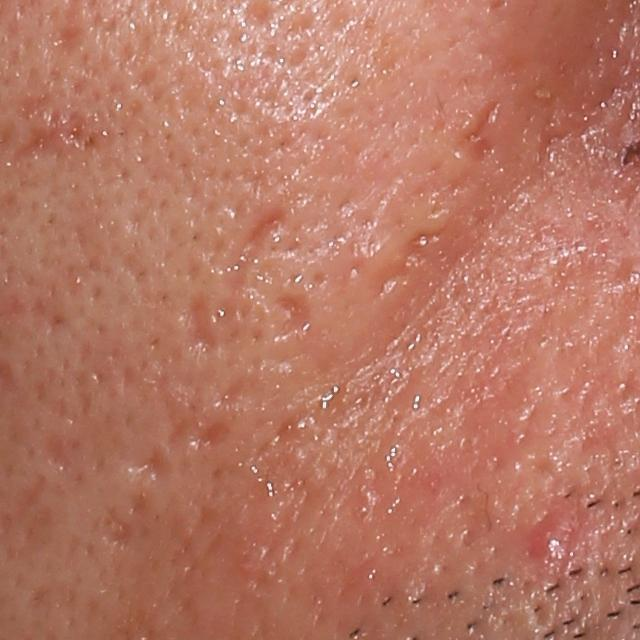atrophic_scar: (7, 115, 112, 168), (444, 100, 504, 174), (223, 208, 288, 266), (183, 286, 223, 358), (121, 449, 176, 496), (272, 289, 312, 343), (36, 430, 72, 479), (212, 373, 249, 415), (194, 416, 231, 457), (371, 262, 411, 299), (103, 516, 137, 551)
papule: (526, 483, 590, 575)
